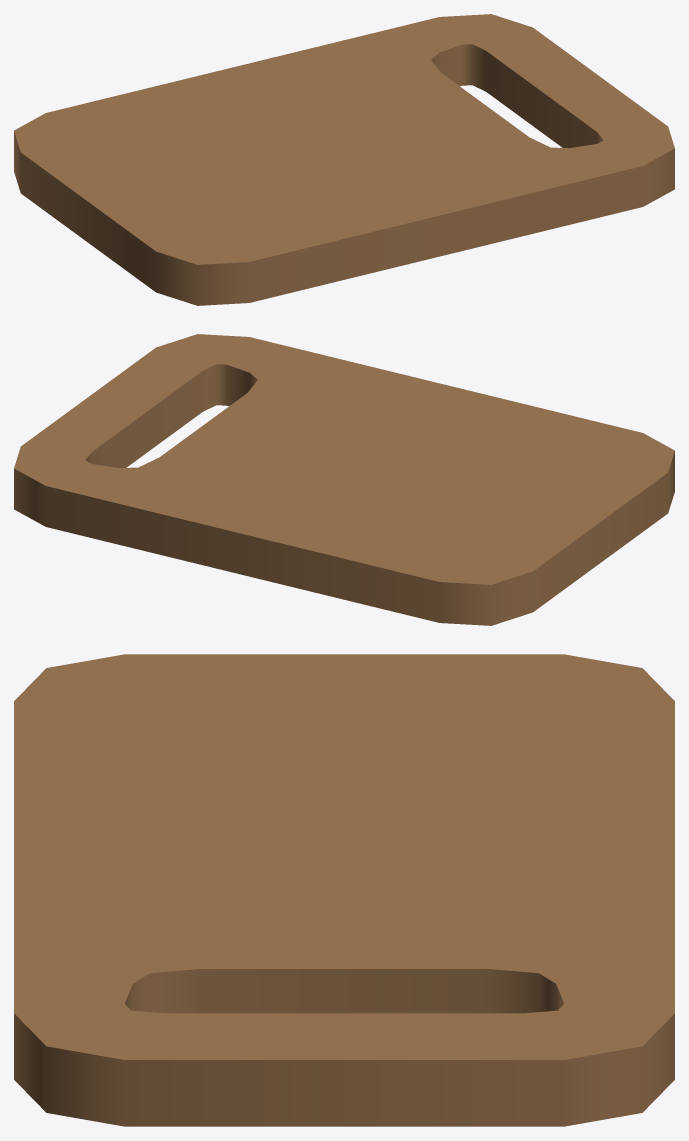
The model's file is chopping board.fbx.
3 renders of one model, top to bottom at view 1: azimuth 30°, elevation 25°; view 2: azimuth 150°, elevation 25°; view 3: azimuth 270°, elevation 25°, orthographic. The views are drawn at different scales.
Parts seen in each view (by area): view 1: Plane; view 2: Plane; view 3: Plane.
Boxes of the visible parts, x1,y1,x2,y2 form: Plane: (14, 14, 674, 305); Plane: (14, 334, 674, 625); Plane: (14, 654, 674, 1126).
Bounding box in the file's own units: 219 × 16.79 × 151.
